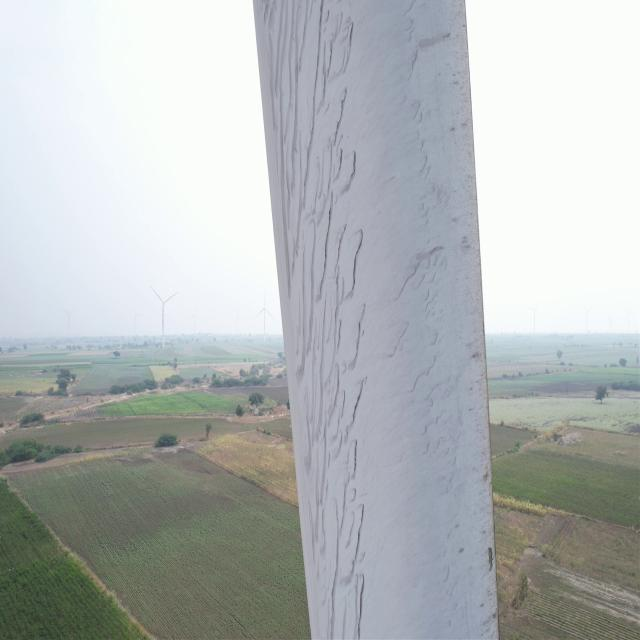Dirt: (248, 1, 503, 640)
